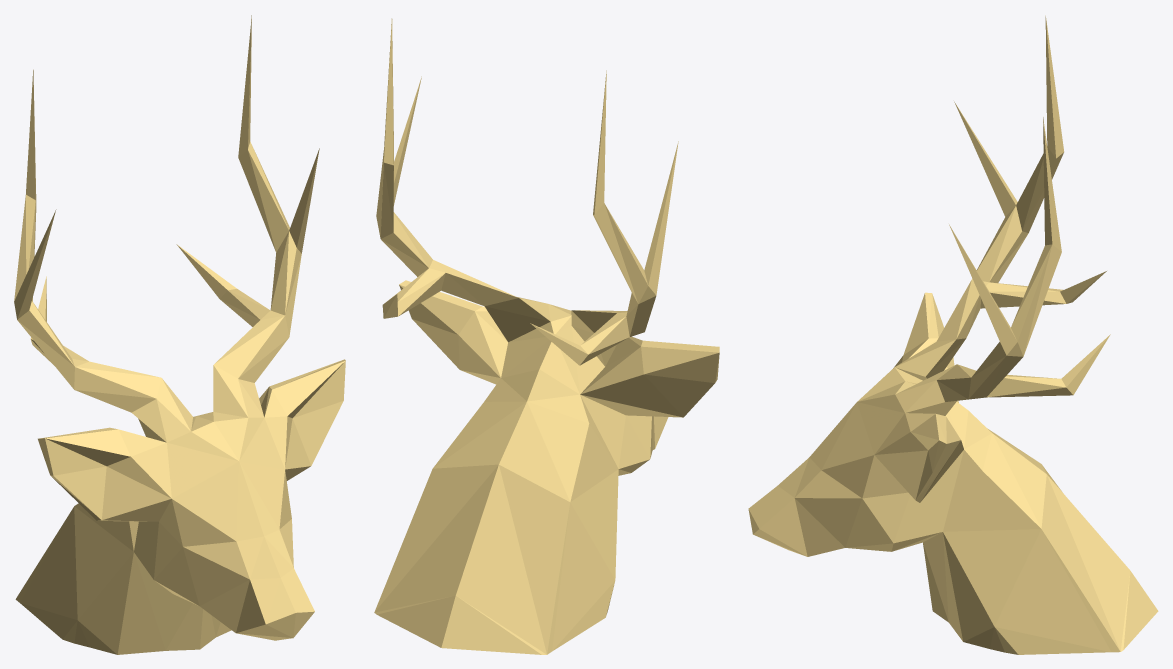
Rendered from Prop_Christmas_Ornament_Reindeer_Head_Cream_01.FBX.
3 views of the same model, side by side, from view 1: azimuth 30°, elevation 25°; view 2: azimuth 150°, elevation 25°; view 3: azimuth 270°, elevation 25° (orthographic). The views are drawn at different scales.
Parts seen in each view (by area): view 1: Prop_Christmas_Ornament_Reindeer_Head_Cream_01; view 2: Prop_Christmas_Ornament_Reindeer_Head_Cream_01; view 3: Prop_Christmas_Ornament_Reindeer_Head_Cream_01.
Part boxes in pixels (left/top/right/bottom): Prop_Christmas_Ornament_Reindeer_Head_Cream_01: left=14, top=15, right=345, bottom=654; Prop_Christmas_Ornament_Reindeer_Head_Cream_01: left=374, top=18, right=719, bottom=654; Prop_Christmas_Ornament_Reindeer_Head_Cream_01: left=748, top=15, right=1158, bottom=654.
Size of the model in its own units: 344 by 592 by 403.
